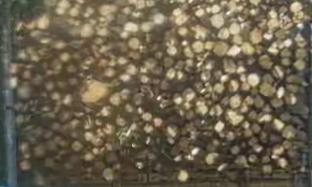large: (80, 76, 106, 102)
medium: (226, 110, 244, 124), (260, 55, 273, 69), (260, 83, 274, 96), (17, 85, 31, 98), (250, 29, 262, 44), (211, 15, 224, 28), (81, 25, 94, 38), (224, 59, 236, 73), (175, 13, 189, 25), (214, 43, 227, 55), (183, 89, 195, 101), (38, 16, 49, 29), (249, 74, 260, 86), (242, 43, 254, 54), (178, 170, 189, 182), (273, 119, 284, 131), (197, 102, 208, 114), (230, 95, 240, 108), (270, 98, 283, 108), (278, 49, 292, 58), (192, 42, 203, 53), (206, 153, 217, 164), (104, 124, 115, 135), (34, 146, 45, 157), (110, 93, 120, 105), (290, 2, 302, 12), (294, 60, 306, 70), (210, 106, 222, 116), (227, 46, 240, 55), (104, 168, 113, 181), (230, 24, 240, 35), (218, 28, 229, 38), (116, 115, 126, 126), (185, 47, 195, 58), (126, 23, 138, 32), (230, 80, 239, 92), (55, 40, 67, 49), (283, 126, 292, 138), (215, 122, 225, 132), (233, 35, 243, 45), (126, 64, 136, 74), (20, 161, 30, 171), (145, 59, 156, 68), (296, 50, 307, 59), (105, 68, 115, 77), (72, 142, 82, 151), (244, 96, 254, 105), (274, 145, 283, 155), (130, 38, 138, 49), (167, 69, 175, 80), (256, 97, 264, 108), (155, 14, 164, 23), (215, 84, 224, 93), (269, 20, 278, 29), (264, 31, 273, 40), (201, 72, 210, 81), (165, 58, 174, 67), (278, 158, 287, 167), (101, 5, 109, 15), (241, 102, 248, 113), (167, 47, 176, 55), (60, 53, 69, 61), (69, 8, 78, 16), (144, 125, 153, 133), (252, 124, 260, 133), (186, 110, 194, 119), (212, 5, 220, 13), (141, 24, 150, 31), (143, 113, 152, 120), (68, 65, 77, 72), (102, 107, 109, 116), (120, 75, 130, 81), (154, 118, 161, 126), (142, 76, 149, 84), (179, 28, 187, 35), (196, 9, 204, 16), (86, 153, 94, 160), (64, 95, 71, 103), (232, 147, 240, 154), (221, 76, 229, 83), (237, 67, 246, 73), (85, 133, 92, 140), (227, 133, 234, 140), (52, 93, 59, 100), (24, 71, 30, 78), (57, 8, 64, 14), (28, 47, 31, 54)
small: (253, 145, 263, 153), (98, 28, 107, 36), (281, 58, 290, 66), (46, 158, 54, 166), (46, 82, 53, 91), (206, 42, 213, 50), (16, 115, 24, 122), (205, 63, 212, 71), (174, 98, 182, 104), (119, 58, 127, 64), (270, 11, 276, 19), (87, 8, 94, 14), (126, 105, 132, 112), (250, 155, 256, 162), (174, 9, 181, 15), (121, 32, 127, 38), (285, 40, 291, 46), (242, 84, 248, 90), (53, 123, 59, 129), (155, 52, 161, 58), (124, 8, 130, 14), (241, 75, 246, 82), (162, 82, 167, 89), (178, 72, 183, 79), (84, 12, 89, 18), (193, 149, 199, 154), (109, 61, 115, 66), (175, 156, 181, 161), (137, 163, 142, 169), (96, 120, 102, 125), (251, 9, 256, 15), (146, 137, 150, 144), (60, 141, 65, 146), (72, 132, 77, 137), (187, 60, 192, 65), (297, 24, 303, 28), (69, 20, 74, 24), (182, 41, 187, 45), (47, 71, 52, 75), (149, 154, 153, 159), (205, 94, 210, 98), (214, 140, 218, 145), (201, 89, 205, 93), (272, 43, 276, 47), (207, 8, 211, 12), (205, 82, 209, 86), (76, 21, 79, 26), (139, 108, 142, 113), (94, 149, 97, 153), (279, 45, 283, 48), (87, 174, 91, 177), (97, 129, 100, 132), (192, 131, 195, 134), (87, 168, 90, 171), (209, 101, 211, 105), (192, 136, 194, 139)
